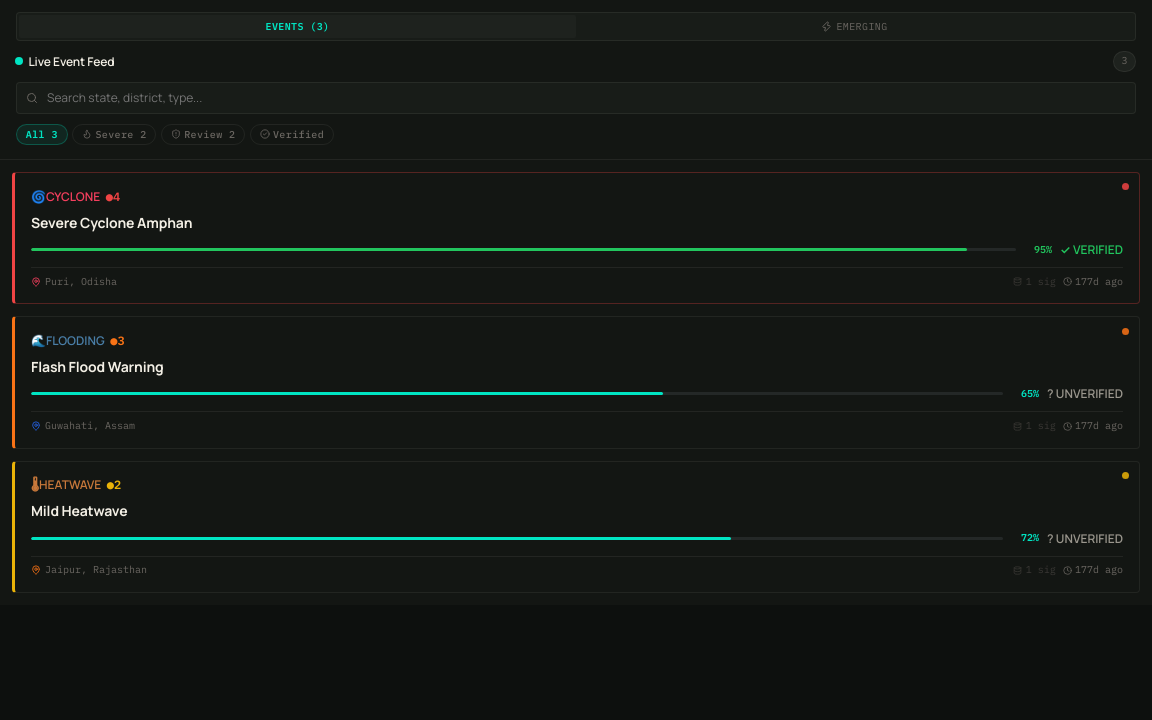
Test: EventFeed Component › filters events by quick filter "severe"
This screenshot has width=1152, height=720.
Click the button "Severe 2" at (114, 134), box [72,124,156,145]
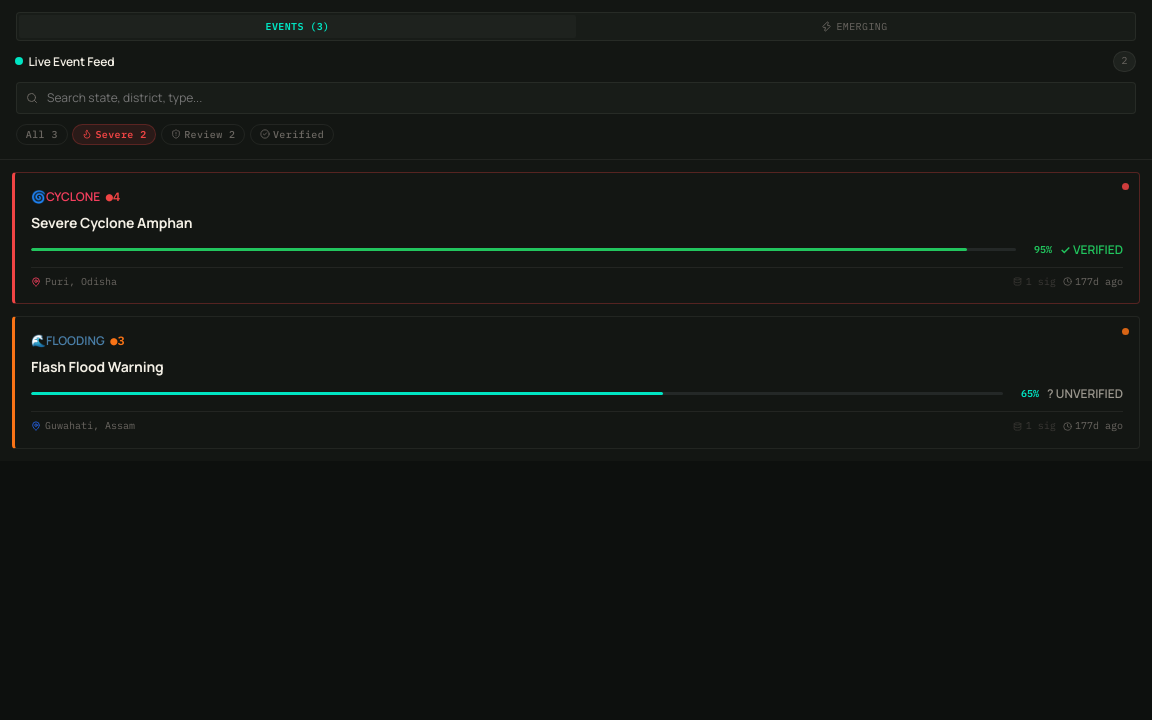
Expected: the text "Severe Cyclone Amphan" is shown, [31,213,192,232]
Now the button "Mild Heatwave" is gone
